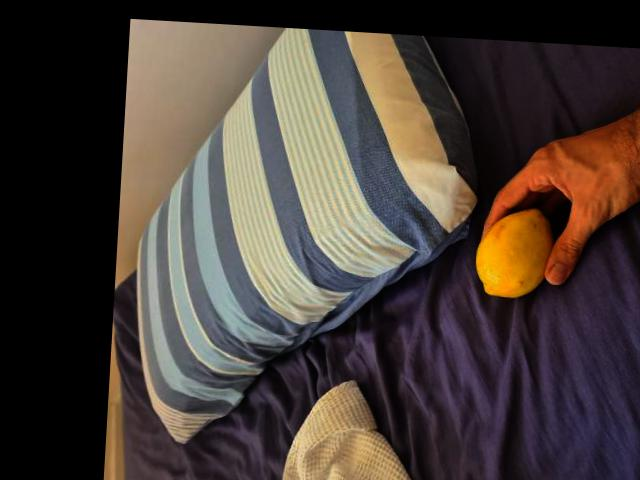lemon: (476, 204, 558, 304)
